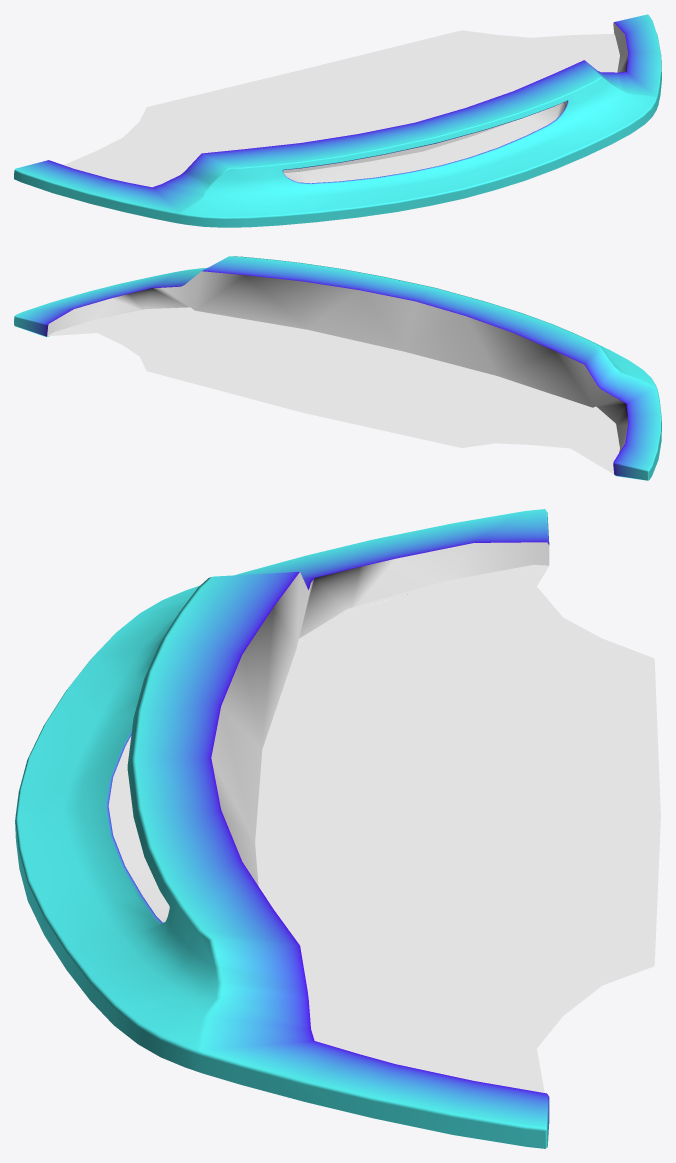
File: Car_Ford_GT_2017_Splitter_SetC.fbx
3 views of the same model, one above another, from view 1: azimuth 30°, elevation 25°; view 2: azimuth 150°, elevation 25°; view 3: azimuth 270°, elevation 25° (orthographic). The views are drawn at different scales.
Visible parts, largest first — view 1: Splitter 6; view 2: Splitter 6; view 3: Splitter 6.
Boxes of the visible parts, <box> form: Splitter 6: <box>14,14,661,227</box>; Splitter 6: <box>14,256,661,480</box>; Splitter 6: <box>15,509,660,1148</box>.
Bounding box in the file's own units: 1.86 × 0.1239 × 0.8196.
